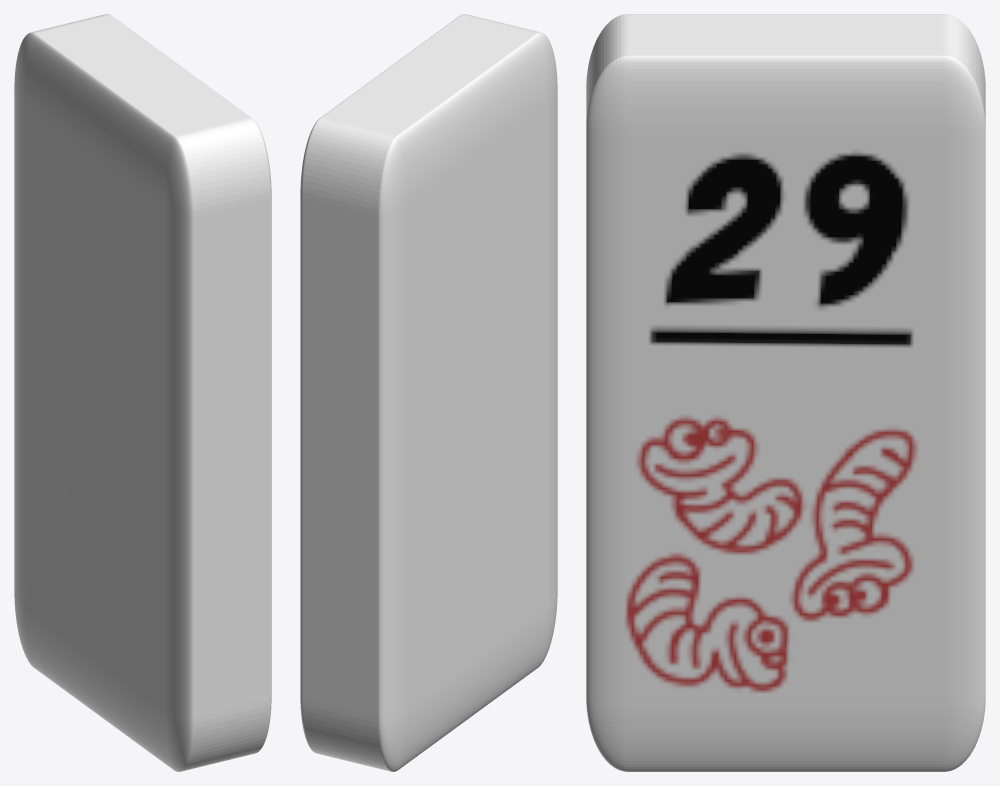
File: pickomino3d-29.dae
The picture shows the model from 3 angles, left to right: view 1: azimuth 30°, elevation 25°; view 2: azimuth 150°, elevation 25°; view 3: azimuth 270°, elevation 25°; orthographic projection. The views are drawn at different scales.
Visible parts, largest first — view 1: Cube; view 2: Cube; view 3: Cube.
Boxes of the visible parts, x1,y1,x2,y2 form: Cube: (14, 14, 271, 771); Cube: (300, 14, 557, 771); Cube: (586, 14, 985, 771).
Size of the model in its own units: 0.3683 by 1.19 by 2.35.
Materials: 1 (1 with a texture image).
